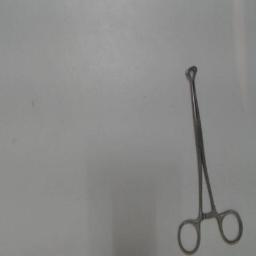Babcock Tissue Forceps: (175, 61, 245, 255)
